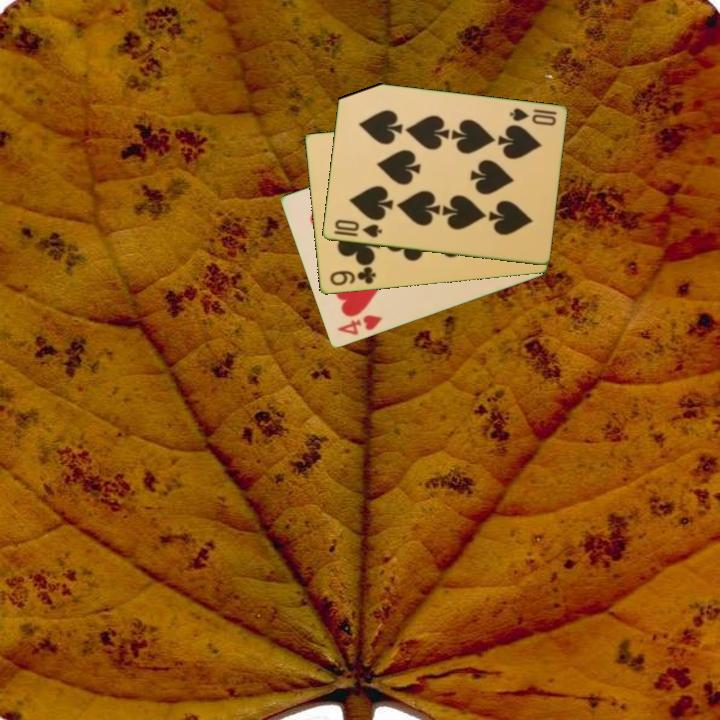10s: (331, 216, 385, 241), (506, 105, 559, 129)
4h: (333, 311, 385, 338)
9c: (326, 264, 379, 289)
